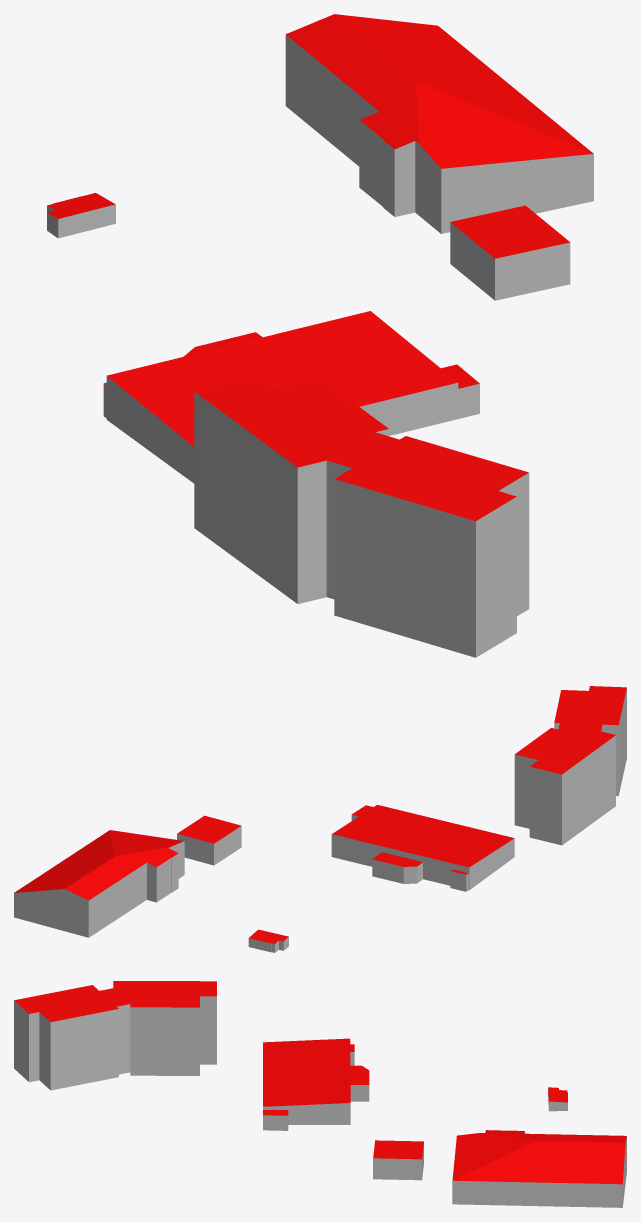
3 renders of one model, top to bottom at view 1: azimuth 30°, elevation 25°; view 2: azimuth 150°, elevation 25°; view 3: azimuth 270°, elevation 25°, orthographic. The views are drawn at different scales.
Bounding box in the file's own units: 107 × 21.45 × 174.
